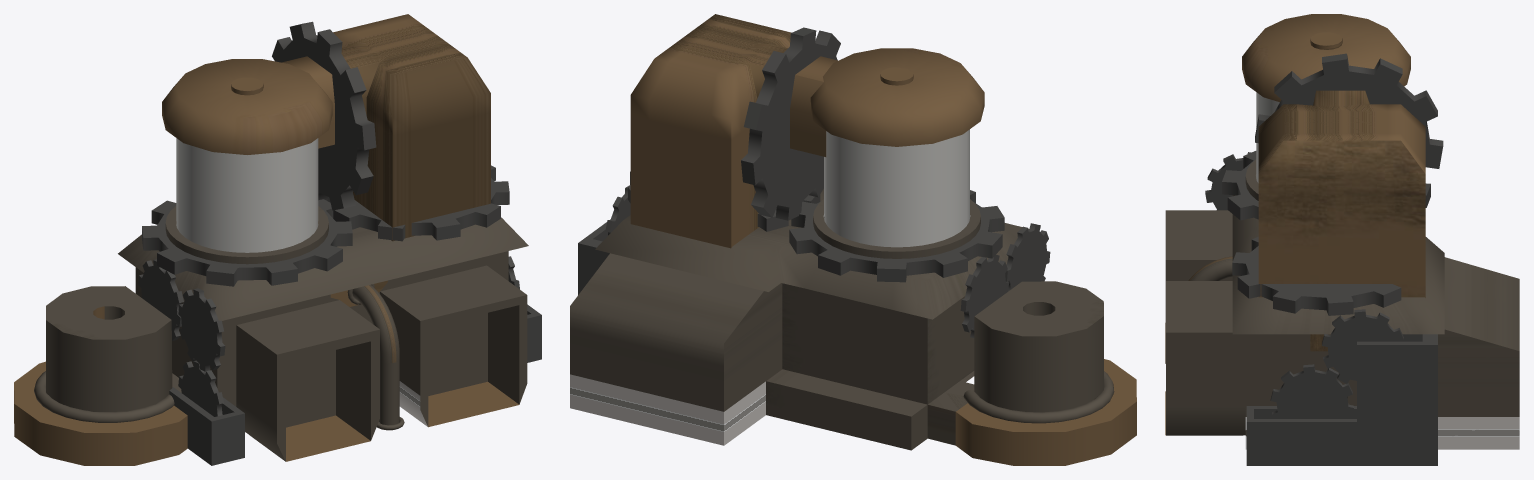
Rendered from basis.fbx.
3 views of the same model, side by side, from view 1: azimuth 30°, elevation 25°; view 2: azimuth 150°, elevation 25°; view 3: azimuth 270°, elevation 25° (orthographic). The views are drawn at different scales.
Parts seen in each view (by area): view 1: building_1, Cylinder_3, Cylinder, Cylinder_1, Cube, Cylinder_5, Cylinder_4, Cylinder_6, Cube_1; view 2: building_1, Cylinder_3, Cylinder, Cylinder_4, Cylinder_5, Cube_1, Cylinder_1, Cylinder_8; view 3: building_1, Cube_1, Cylinder_3, Cylinder_1, Cylinder_7, Cylinder_8, Cylinder, Cylinder_5.
Part boxes in pixels (left/top/right/bottom): building_1: left=14, top=14, right=528, bottom=465; Cylinder_3: left=272, top=21, right=376, bottom=210; Cylinder: left=142, top=199, right=352, bottom=286; Cylinder_1: left=326, top=165, right=509, bottom=241; Cube: left=169, top=387, right=244, bottom=465; Cylinder_5: left=178, top=288, right=225, bottom=371; Cylinder_4: left=138, top=259, right=183, bottom=340; Cylinder_6: left=178, top=360, right=223, bottom=416; Cube_1: left=527, top=304, right=541, bottom=362; building_1: left=570, top=14, right=1136, bottom=465; Cylinder_3: left=741, top=27, right=840, bottom=220; Cylinder: left=789, top=190, right=1004, bottom=282; Cylinder_4: left=960, top=254, right=1008, bottom=337; Cylinder_5: left=1005, top=223, right=1050, bottom=291; Cube_1: left=578, top=219, right=610, bottom=294; Cylinder_1: left=628, top=171, right=820, bottom=231; Cylinder_8: left=605, top=185, right=630, bottom=235; building_1: left=1165, top=14, right=1519, bottom=449; Cube_1: left=1246, top=334, right=1437, bottom=465; Cylinder_3: left=1255, top=53, right=1443, bottom=168; Cylinder_1: left=1232, top=236, right=1401, bottom=315; Cylinder_7: left=1270, top=364, right=1353, bottom=418; Cylinder_8: left=1322, top=309, right=1403, bottom=383; Cylinder: left=1222, top=151, right=1430, bottom=220; Cylinder_5: left=1205, top=152, right=1250, bottom=210.
Bounding box in the file's own units: 6714 × 4495 × 4385.
Materials: 2 (2 with a texture image).
